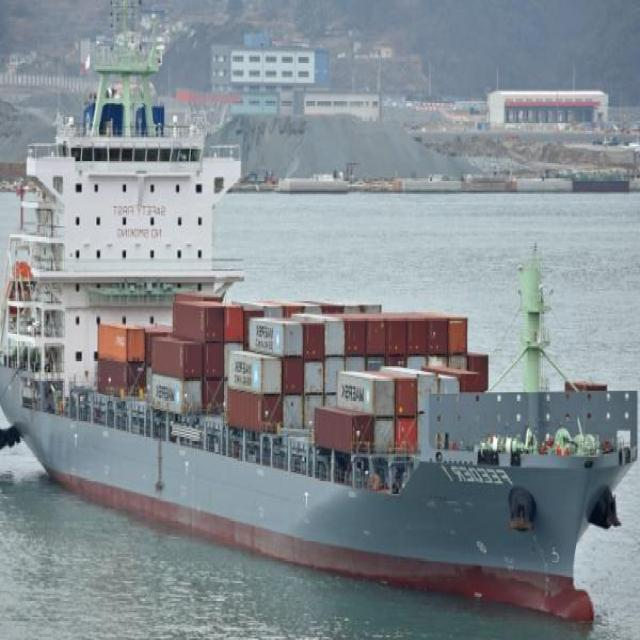Container Ship: (2, 6, 636, 626)
